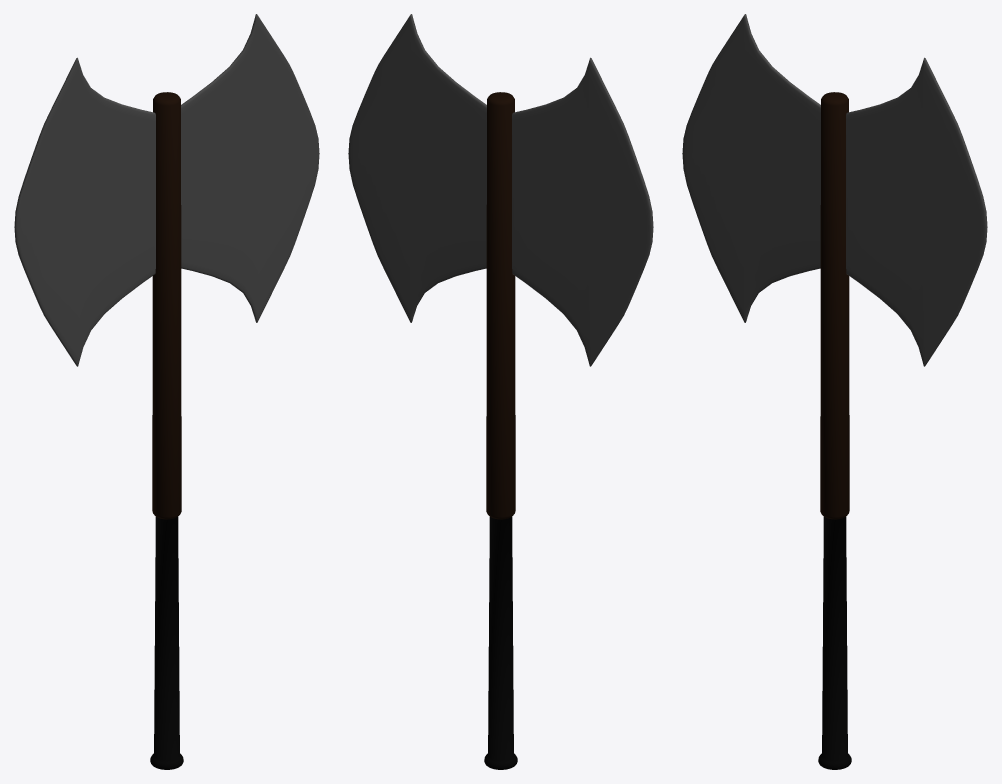
Rendered from TwoHand_Axe_Iron.obj.
The picture shows the model from 3 angles, left to right: view 1: azimuth 30°, elevation 25°; view 2: azimuth 150°, elevation 25°; view 3: azimuth 330°, elevation 25°; orthographic projection.
Parts seen in each view (by area): view 1: TwoHand_Axe_Iron_Cylinder.005; view 2: TwoHand_Axe_Iron_Cylinder.005; view 3: TwoHand_Axe_Iron_Cylinder.005.
Part boxes in pixels (box(x1,y1,x2,y2)): TwoHand_Axe_Iron_Cylinder.005: box(14, 14, 319, 769); TwoHand_Axe_Iron_Cylinder.005: box(348, 14, 653, 769); TwoHand_Axe_Iron_Cylinder.005: box(682, 14, 987, 769).
Size of the model in its own units: 5.46 by 12.51 by 0.5231.
